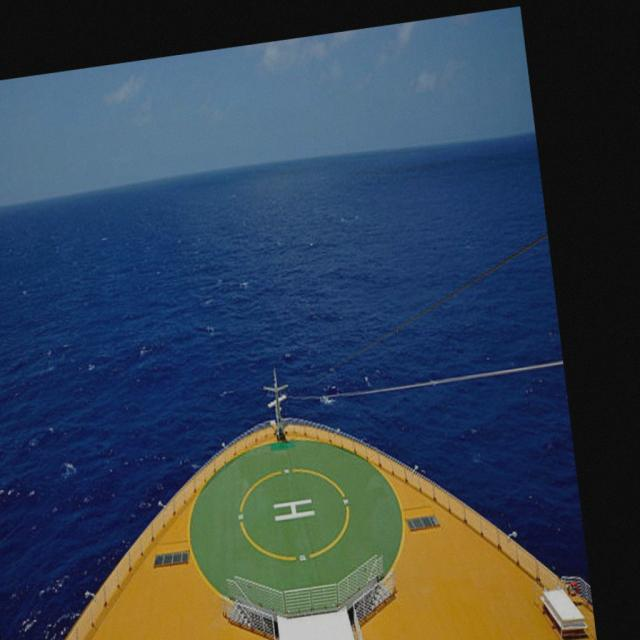helipad: (235, 464, 352, 562)
